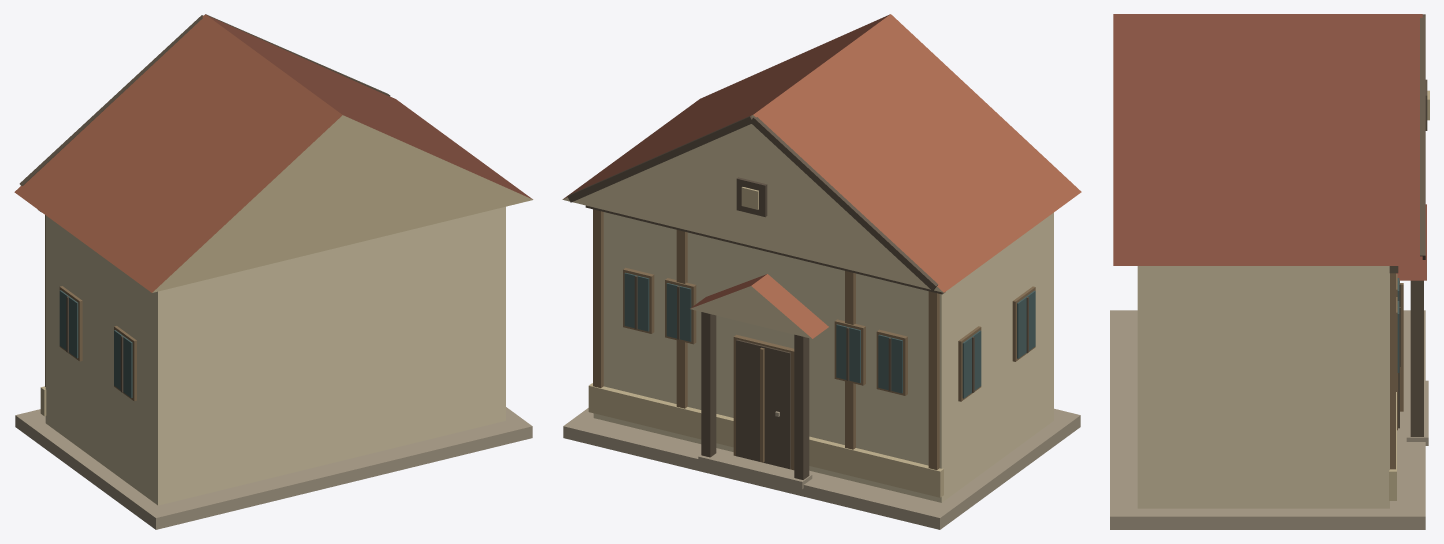
Rendered from Building_TownHall.fbx.
3 renders of one model, left to right at view 1: azimuth 30°, elevation 25°; view 2: azimuth 150°, elevation 25°; view 3: azimuth 270°, elevation 25°, orthographic. The views are drawn at different scales.
Parts seen in each view (by area): view 1: Building_TownHall; view 2: Building_TownHall; view 3: Building_TownHall.
Part boxes in pixels (bbox=[...]): Building_TownHall: bbox=[14, 14, 533, 529]; Building_TownHall: bbox=[562, 14, 1081, 529]; Building_TownHall: bbox=[1110, 14, 1429, 529].
Bounding box in the file's own units: 3.04 × 2.8 × 1.97.
